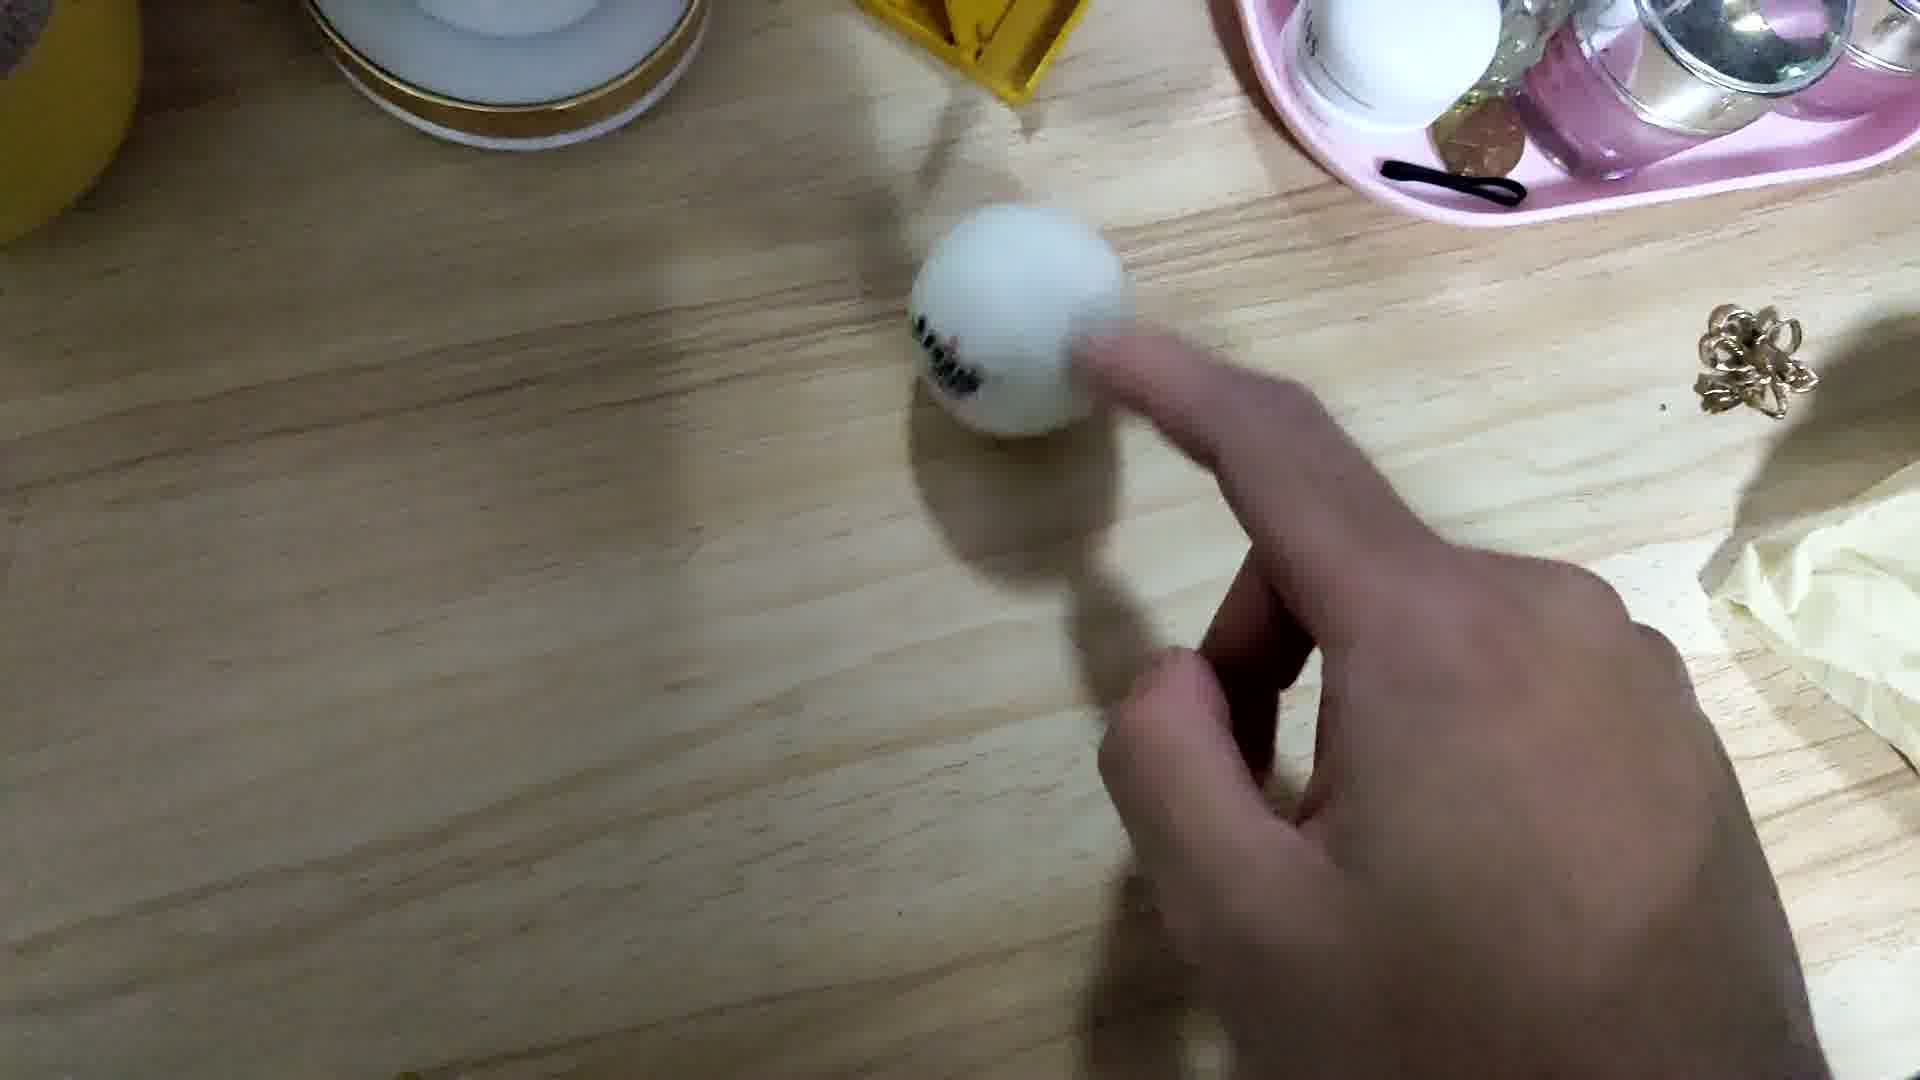Ball: (909, 200, 1135, 440)
